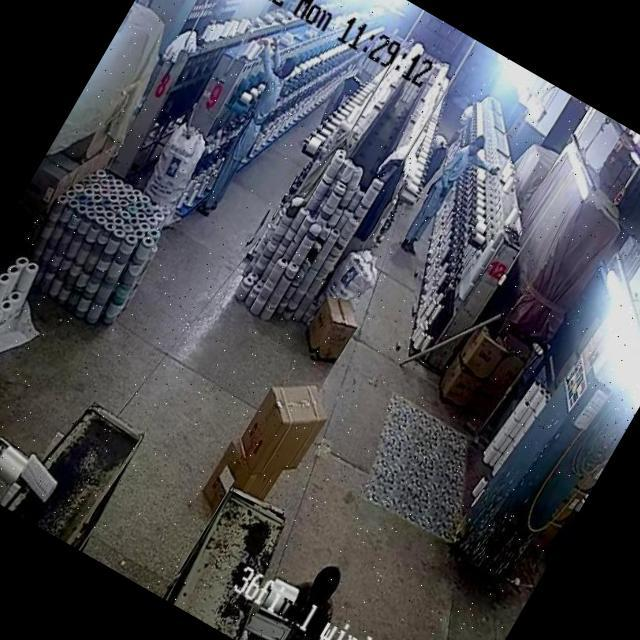person: (188, 48, 306, 228), (403, 127, 490, 250), (280, 552, 355, 640), (322, 68, 362, 126)
